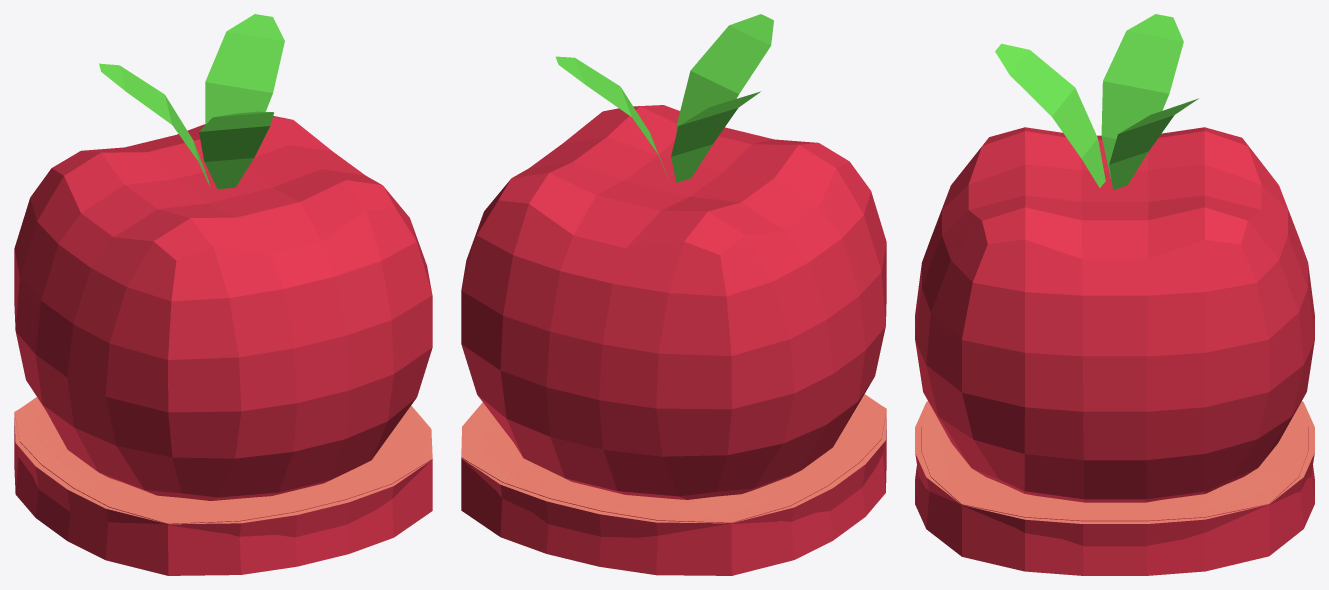
File: Tomato.fbx_Collection.fbx
The picture shows the model from 3 angles, left to right: view 1: azimuth 30°, elevation 25°; view 2: azimuth 150°, elevation 25°; view 3: azimuth 270°, elevation 25°; orthographic projection.
Parts seen in each view (by area): view 1: WholeTomato, Tomato Slice 2, Tomato Slice 3, Tomato Slice 1; view 2: WholeTomato, Tomato Slice 2, Tomato Slice 3, Tomato Slice 1; view 3: WholeTomato, Tomato Slice 2, Tomato Slice 3, Tomato Slice 1.
Boxes of the visible parts, left/top/right/bottom form: WholeTomato: left=14, top=14, right=432, bottom=500; Tomato Slice 2: left=14, top=398, right=432, bottom=575; Tomato Slice 3: left=14, top=397, right=432, bottom=537; Tomato Slice 1: left=32, top=406, right=414, bottom=515; WholeTomato: left=461, top=14, right=886, bottom=499; Tomato Slice 2: left=461, top=395, right=886, bottom=575; Tomato Slice 3: left=461, top=394, right=886, bottom=537; Tomato Slice 1: left=479, top=404, right=868, bottom=514; WholeTomato: left=915, top=14, right=1314, bottom=502; Tomato Slice 2: left=915, top=405, right=1314, bottom=575; Tomato Slice 3: left=915, top=401, right=1314, bottom=546; Tomato Slice 1: left=942, top=426, right=1287, bottom=512.
Bounding box in the file's own units: 182 × 182 × 215.
